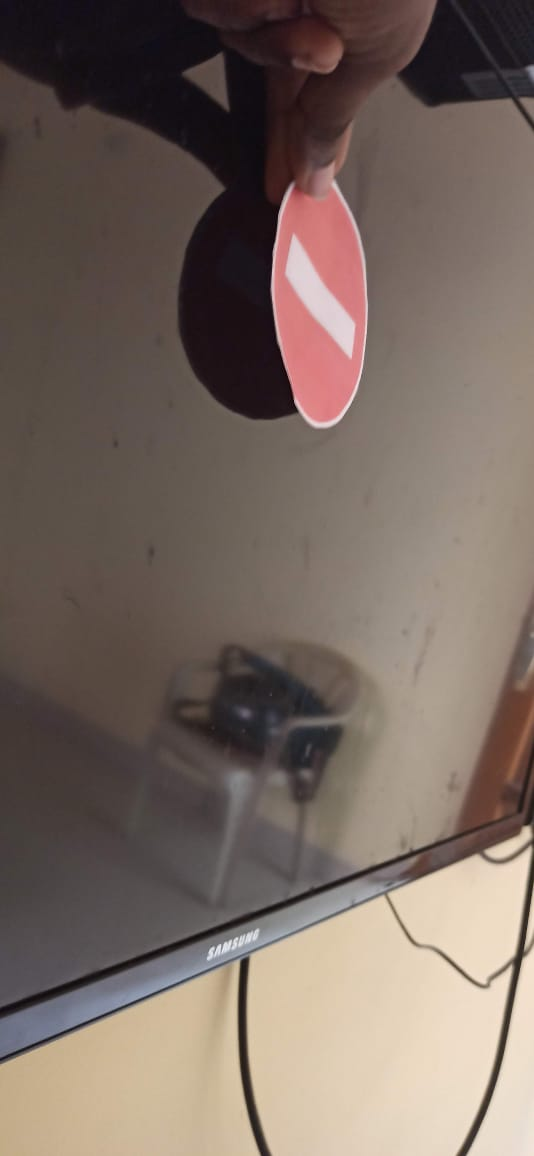NO ENTRY: (249, 145, 391, 437)
